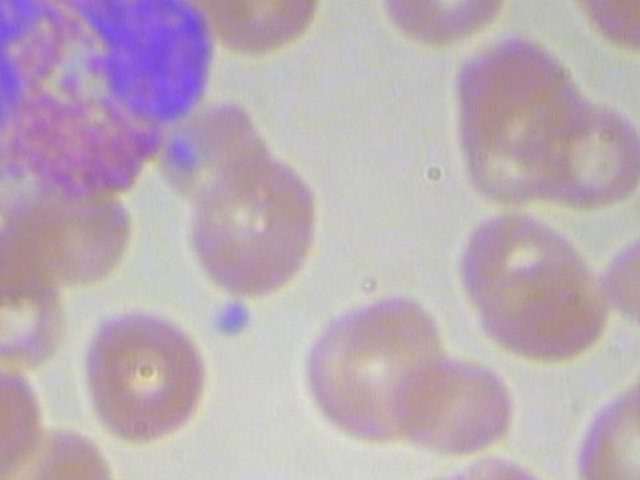Platelets: (205, 298, 256, 340)
RBC: (173, 146, 341, 303), (294, 294, 462, 450), (77, 307, 216, 444), (483, 255, 613, 370), (391, 349, 520, 464), (530, 99, 640, 214), (351, 0, 524, 51), (0, 416, 124, 480)
WBC: (0, 0, 219, 202)
